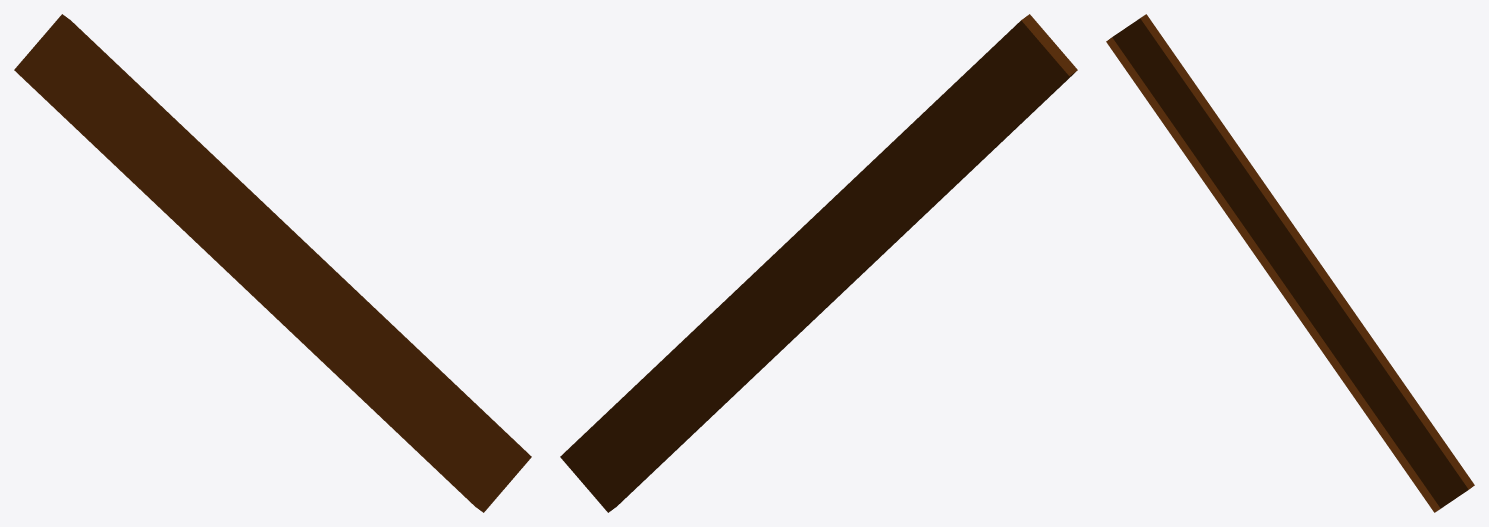
File: ClockHandv1.fbx
3 renders of one model, left to right at view 1: azimuth 30°, elevation 25°; view 2: azimuth 150°, elevation 25°; view 3: azimuth 330°, elevation 25°, orthographic. The views are drawn at different scales.
Visible parts, largest first — view 1: Plane.428; view 2: Plane.428; view 3: Plane.428.
Part boxes in pixels (x1,y1,x2,y2): Plane.428: (14,14,531,512); Plane.428: (560,14,1077,512); Plane.428: (1106,14,1474,512).
Bounding box in the file's own units: 12.61 × 14.04 × 0.3676.
